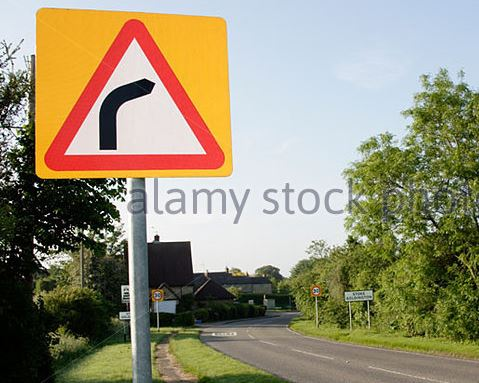Bend_to_right: (41, 16, 226, 173)
